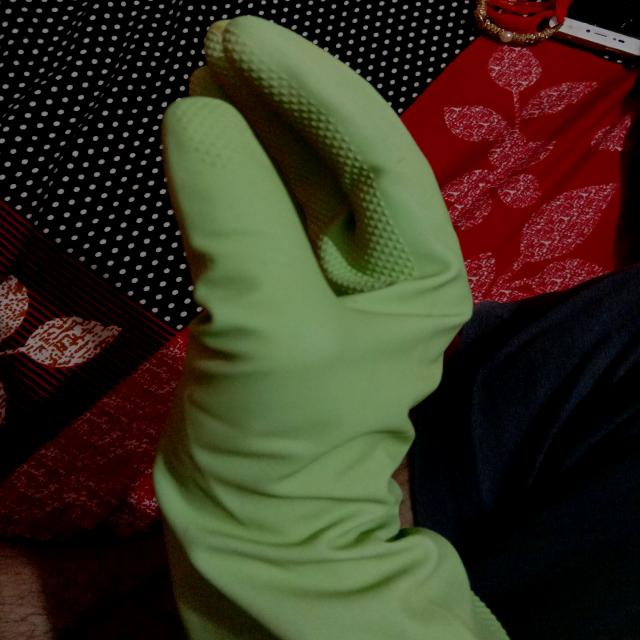glove: (142, 16, 514, 639)
